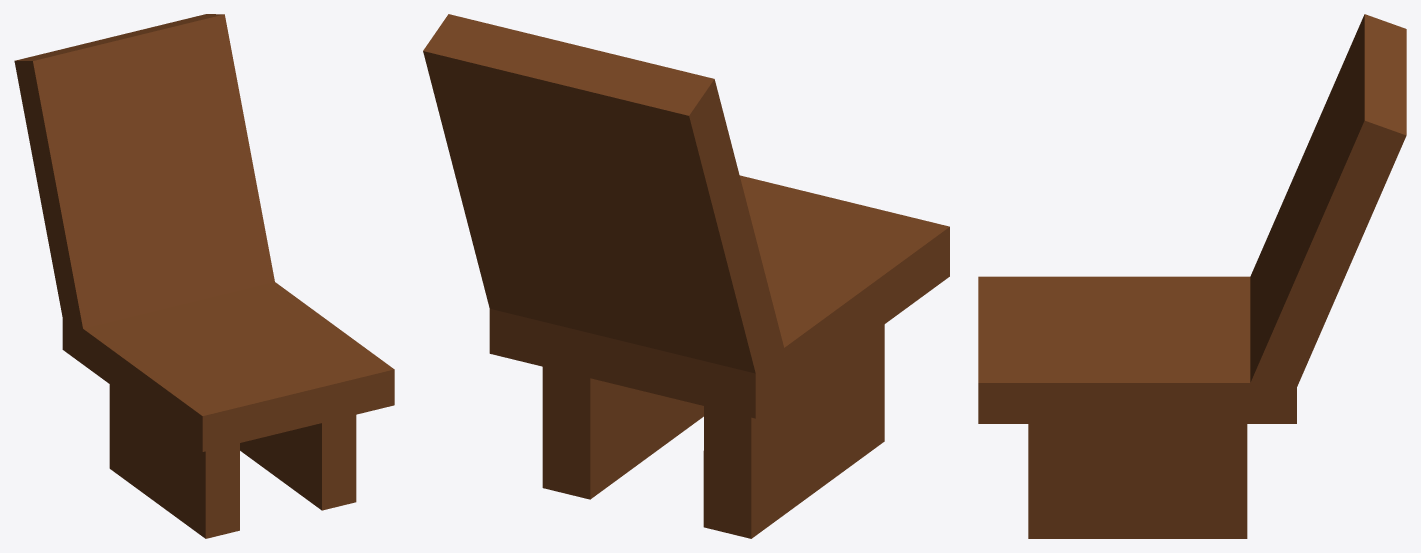
Rendered from Silla.fbx.
3 renders of one model, left to right at view 1: azimuth 30°, elevation 25°; view 2: azimuth 150°, elevation 25°; view 3: azimuth 270°, elevation 25°, orthographic. The views are drawn at different scales.
Visible parts, largest first — view 1: Silla; view 2: Silla; view 3: Silla.
Part boxes in pixels (x1,y1,x2,y2): Silla: (14, 14, 394, 538); Silla: (423, 14, 949, 538); Silla: (978, 14, 1406, 538).
Bounding box in the file's own units: 9.16 × 17.14 × 15.56.
